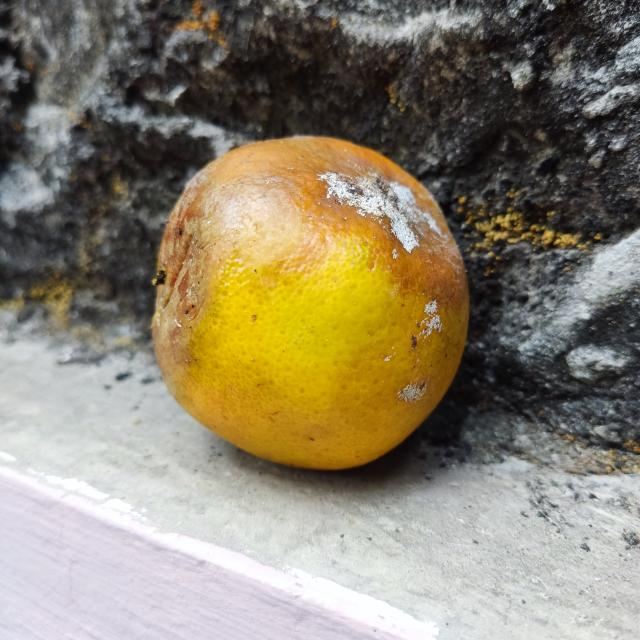orange: (153, 134, 468, 471)
